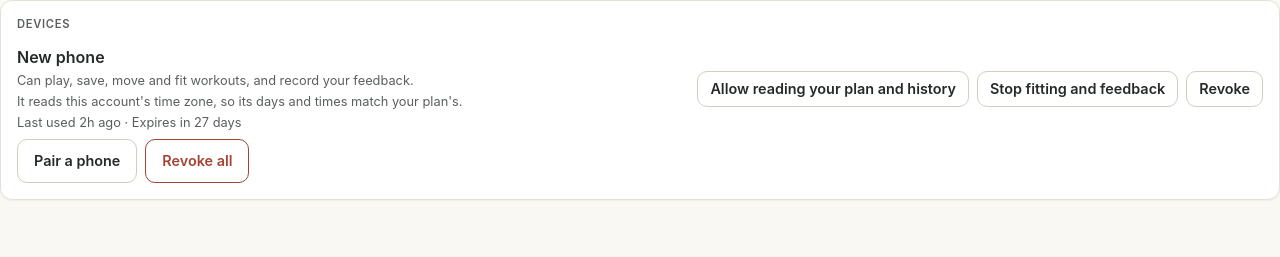
Test: Settings → Devices › a v3 phone's grant of v4 (DESIGN-2c §4): its button, the one line naming what it reads and never, then Allow grants it
The width and height of the screenshot is (1280, 257).
What coordinates should you click on to do the following:
click the button "Allow reading your plan and history"
I would click on:
 (833, 89)
Its box is [697,71,969,107].
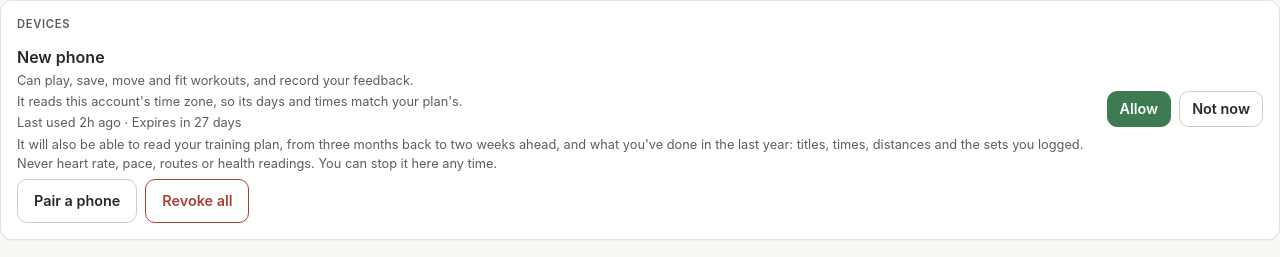
Now the element with class "setting-row" shows "It will also be able to read your training plan, from three months back to two weeks ahead, and what you've done in the last year: titles, times, distances and", box [17,137,1083,171]
What coordinates should you click on to do the following:
click the button "Allow"
I would click on:
 (1139, 109)
Its box is [1106,91,1171,127].
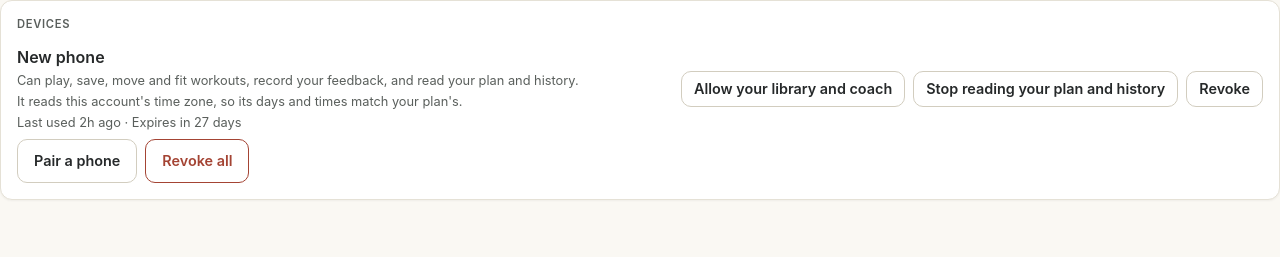
Now the element with class "setting-row" shows "Can play, save, move and fit workouts, record your feedback, and read your plan and history.", box [17,39,1263,139]
